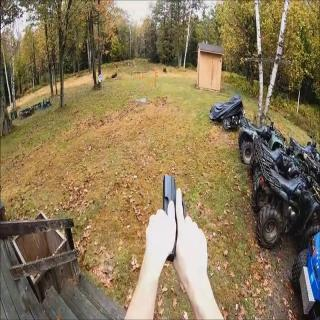gun: (140, 173, 220, 284)
